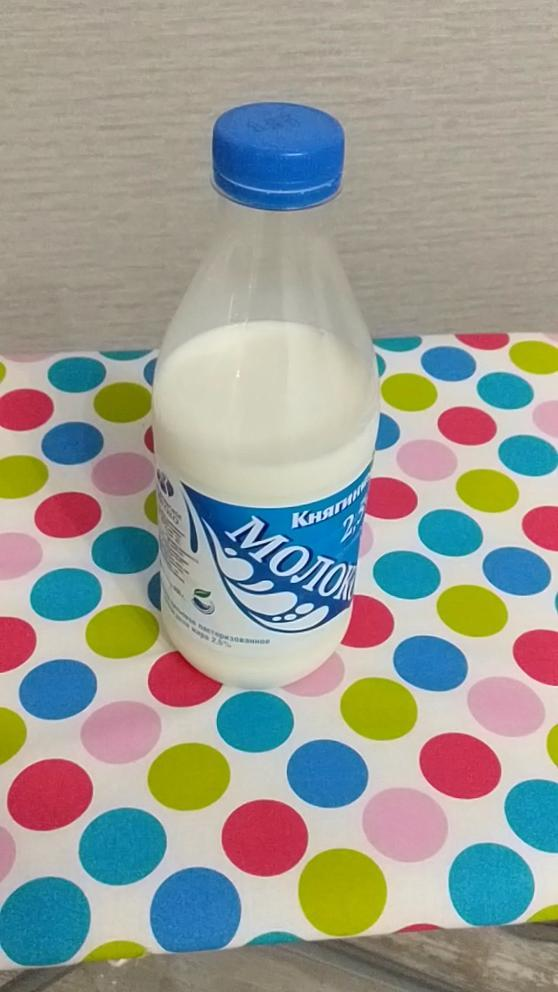milk: (133, 79, 396, 707)
